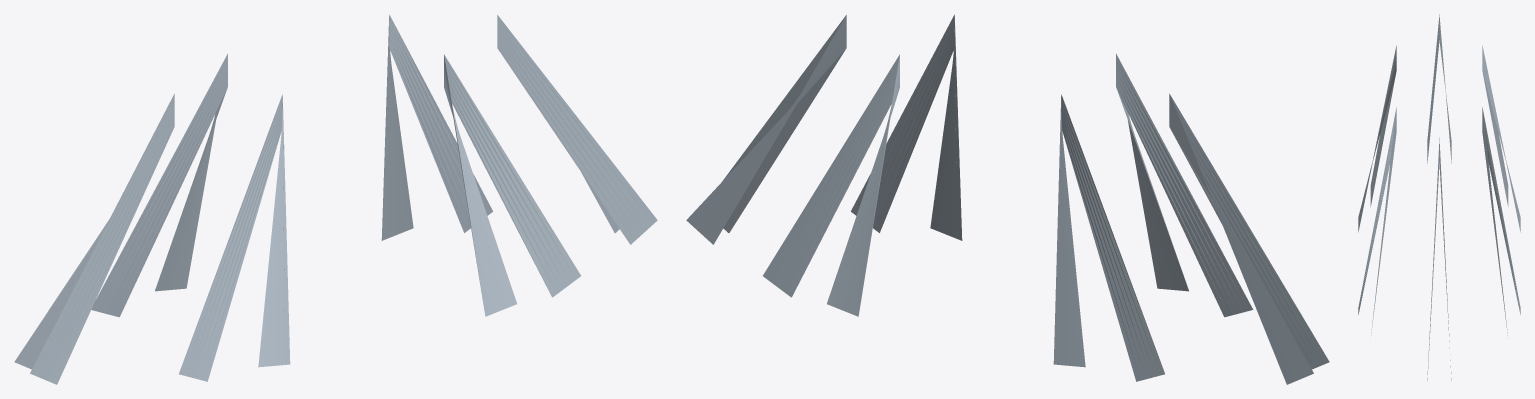
File: Mona_PhantomCardState_EmptyAnchor_PhantomWaterCrown.fbx
3 renders of one model, left to right at view 1: azimuth 30°, elevation 25°; view 2: azimuth 150°, elevation 25°; view 3: azimuth 270°, elevation 25°, orthographic. The views are drawn at different scales.
Parts seen in each view (by area): view 1: PART_AuthoredPhantomWaterCrown_5, PART_AuthoredPhantomWaterCrown_4, PART_AuthoredPhantomWaterCrown_2, PART_AuthoredPhantomWaterCrown_3, PART_AuthoredPhantomWaterCrown_1, PART_AuthoredPhantomWaterCrown_0; view 2: PART_AuthoredPhantomWaterCrown_1, PART_AuthoredPhantomWaterCrown_2, PART_AuthoredPhantomWaterCrown_4, PART_AuthoredPhantomWaterCrown_3, PART_AuthoredPhantomWaterCrown_5, PART_AuthoredPhantomWaterCrown_0; view 3: PART_AuthoredPhantomWaterCrown_1, PART_AuthoredPhantomWaterCrown_5, PART_AuthoredPhantomWaterCrown_2, PART_AuthoredPhantomWaterCrown_4, PART_AuthoredPhantomWaterCrown_3, PART_AuthoredPhantomWaterCrown_0.
Boxes of the visible parts, box(x1,y1,x2,y2) form: PART_AuthoredPhantomWaterCrown_5: box(444, 54, 580, 316); PART_AuthoredPhantomWaterCrown_4: box(179, 94, 290, 381); PART_AuthoredPhantomWaterCrown_2: box(91, 53, 227, 317); PART_AuthoredPhantomWaterCrown_3: box(14, 93, 174, 384); PART_AuthoredPhantomWaterCrown_1: box(381, 14, 492, 240); PART_AuthoredPhantomWaterCrown_0: box(497, 15, 657, 244); PART_AuthoredPhantomWaterCrown_1: box(763, 54, 899, 316); PART_AuthoredPhantomWaterCrown_2: box(1053, 94, 1164, 381); PART_AuthoredPhantomWaterCrown_4: box(1116, 53, 1253, 317); PART_AuthoredPhantomWaterCrown_3: box(1169, 93, 1329, 384); PART_AuthoredPhantomWaterCrown_5: box(851, 14, 962, 240); PART_AuthoredPhantomWaterCrown_0: box(686, 15, 846, 244); PART_AuthoredPhantomWaterCrown_1: box(1482, 107, 1520, 335); PART_AuthoredPhantomWaterCrown_5: box(1358, 107, 1396, 335); PART_AuthoredPhantomWaterCrown_2: box(1482, 45, 1520, 232); PART_AuthoredPhantomWaterCrown_4: box(1358, 45, 1396, 232); PART_AuthoredPhantomWaterCrown_3: box(1427, 14, 1451, 163); PART_AuthoredPhantomWaterCrown_0: box(1427, 137, 1451, 380).
Size of the model in its own units: 97.3 by 37.84 by 27.82.
